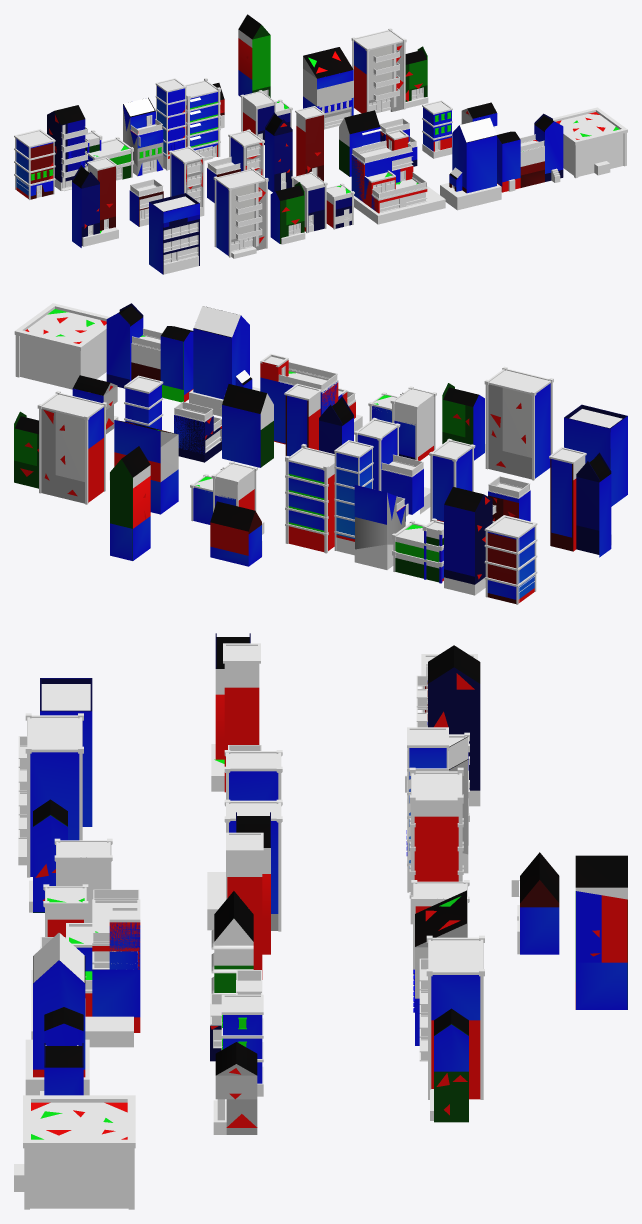
File: Buildings.glb
3 views of the same model, one above another, from view 1: azimuth 30°, elevation 25°; view 2: azimuth 150°, elevation 25°; view 3: azimuth 270°, elevation 25° (orthographic). The views are drawn at different scales.
Visible parts, largest first — view 1: Building_27, Building_11, Building_23, Building_28, Building_29, Building_30, Building_22, Building_12, Building_10, Building_1, Building_2, Building_6 (+17 smaller); view 2: Building_11, Building_23, Building_30, Building_12, Building_29, Building_28, Building_6, Building_2, Building_1, Building_9, Building_18, Building_22 (+18 smaller); view 3: Building_30, Building_11, Building_27, Building_9, Building_23, Building_6, Building_2, Building_12, Building_28, Building_7, Building_21, Building_29 (+15 smaller).
Part boxes in pixels (box(x1,y1,x2,y2)): Building_27: box(351, 129, 445, 224); Building_11: box(351, 28, 428, 113); Building_23: box(213, 167, 268, 258); Building_28: box(440, 117, 501, 210); Building_29: box(497, 113, 563, 192); Building_30: box(553, 107, 627, 178); Building_22: box(149, 193, 199, 274); Building_12: box(72, 157, 118, 247); Building_10: box(303, 47, 353, 129); Building_1: box(14, 129, 55, 200); Building_2: box(47, 105, 88, 191); Building_6: box(185, 78, 220, 160); Building_11: box(14, 391, 106, 504); Building_23: box(484, 366, 553, 480); Building_30: box(14, 303, 109, 389); Building_12: box(549, 447, 611, 557); Building_29: box(106, 303, 193, 402); Building_28: box(189, 306, 260, 416); Building_6: box(285, 444, 334, 553); Building_2: box(444, 487, 496, 595); Building_1: box(484, 515, 537, 604); Building_9: box(109, 446, 150, 560); Building_18: box(220, 384, 273, 467); Building_22: box(564, 404, 627, 506); Building_30: box(14, 1095, 135, 1209); Building_11: box(419, 935, 484, 1122); Building_27: box(31, 889, 140, 1047); Building_9: box(575, 855, 627, 1009); Building_23: box(18, 713, 83, 877); Building_6: box(407, 767, 463, 924); Building_2: box(416, 645, 480, 806); Building_12: box(211, 633, 260, 792); Building_28: box(25, 932, 89, 1095); Building_7: box(511, 852, 559, 954); Building_21: box(213, 1042, 257, 1134); Building_29: box(40, 1007, 83, 1095).
Size of what is drawn, in the model's own units: 121 by 21.02 by 70.43.
